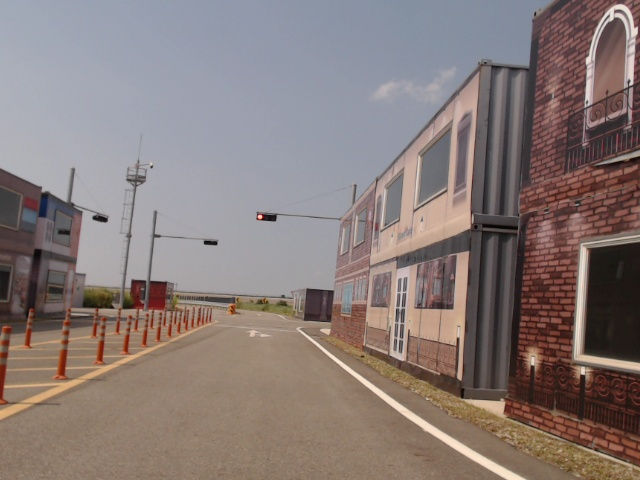red_3: (257, 213, 276, 222)
